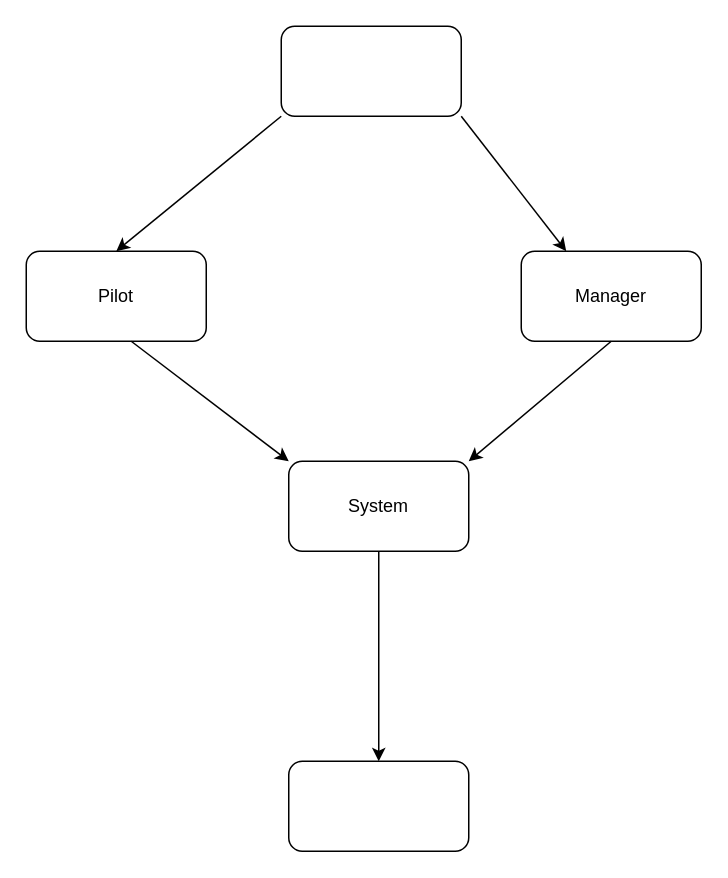
Image size: 728x878. Some labels were removed from this diagram. The centre of each missing label's shape, as x and y in pixels:
"Events" goes at (x=370, y=70).
"index" goes at (x=378, y=805).
